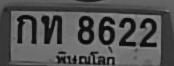2: (138, 16, 156, 46), (118, 16, 135, 46)
6: (98, 15, 114, 44)
8: (77, 14, 93, 44)
A01: (16, 14, 36, 42)
A23: (41, 14, 61, 42)
PLK: (52, 48, 118, 66)
